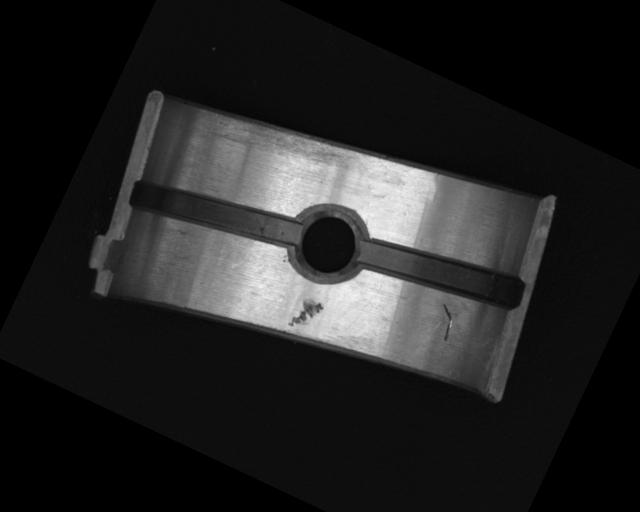bruise: (286, 292, 325, 335)
gap: (126, 152, 304, 275), (354, 212, 527, 331)
hole: (280, 194, 377, 292)
nick: (429, 303, 462, 342)
scratch: (211, 93, 361, 195)
